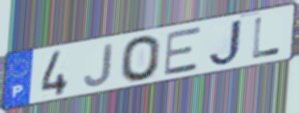4: (40, 47, 70, 98)
E: (162, 25, 202, 78)
J: (207, 17, 245, 68), (82, 41, 115, 88)
L: (251, 15, 282, 61)
O: (119, 34, 163, 84)
